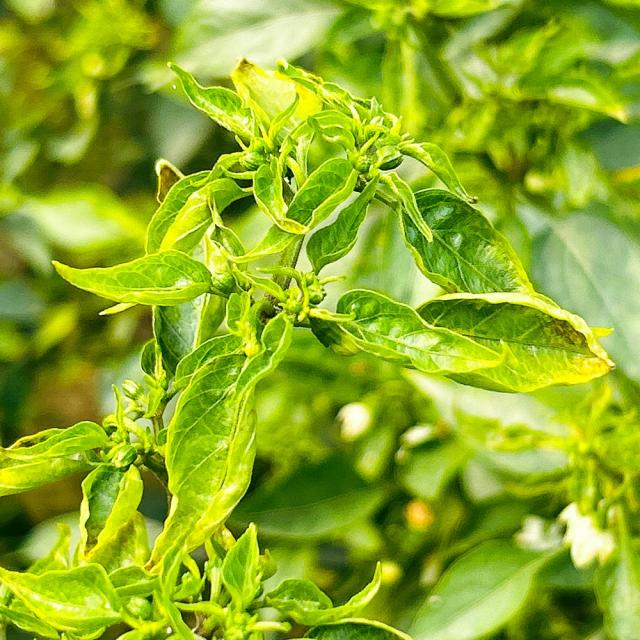Chilli_Leaf_Curl: (1, 55, 619, 638), (144, 290, 294, 585), (308, 286, 616, 394)
